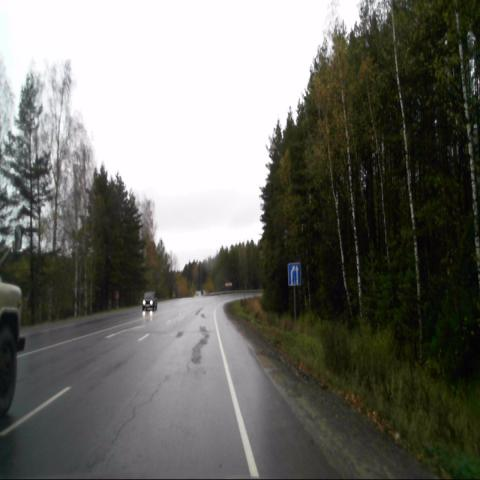5_15_5: (288, 261, 301, 285)
